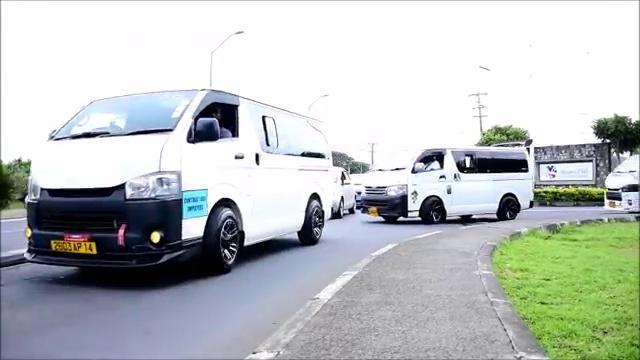van: (26, 90, 337, 280), (357, 143, 534, 225)
